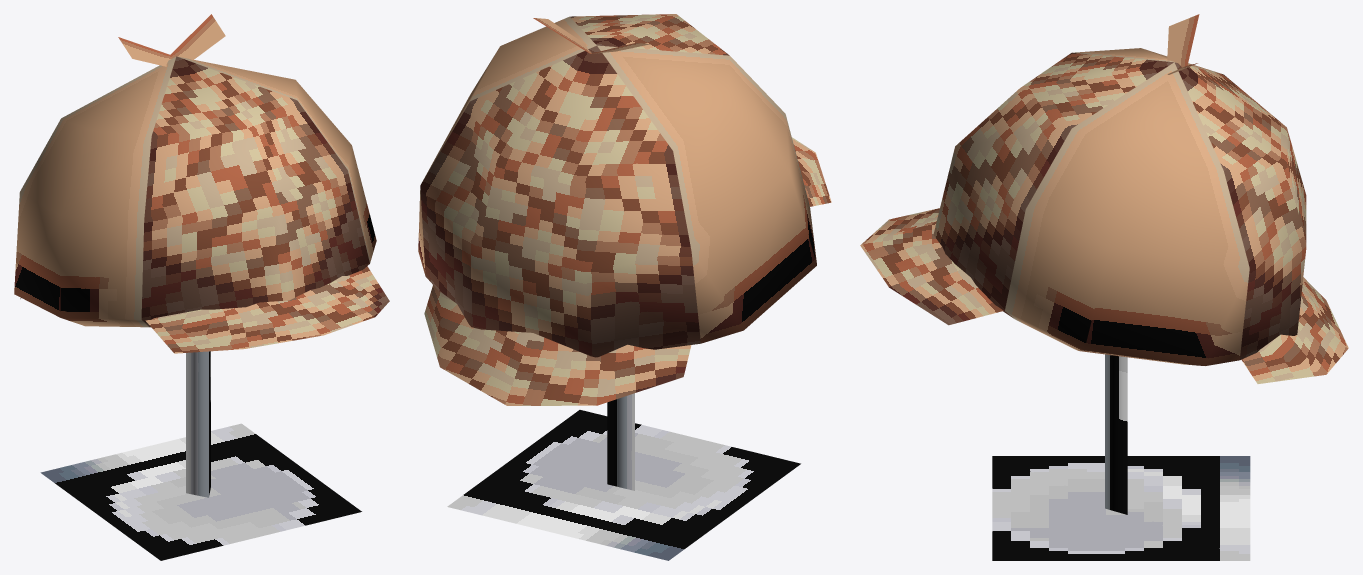
The picture shows the model from 3 angles, left to right: view 1: azimuth 30°, elevation 25°; view 2: azimuth 150°, elevation 25°; view 3: azimuth 270°, elevation 25°; orthographic projection. The views are drawn at different scales.
Visible parts, largest first — view 1: 2881head016_c; view 2: 2881head016_c; view 3: 2881head016_c.
Boxes of the visible parts, x1,y1,x2,y2 form: 2881head016_c: (14,14,389,560); 2881head016_c: (418,14,831,560); 2881head016_c: (860,14,1348,560).
Size of the model in its own units: 0.7258 by 0.9739 by 0.9097.
2 materials, 2 textured.
